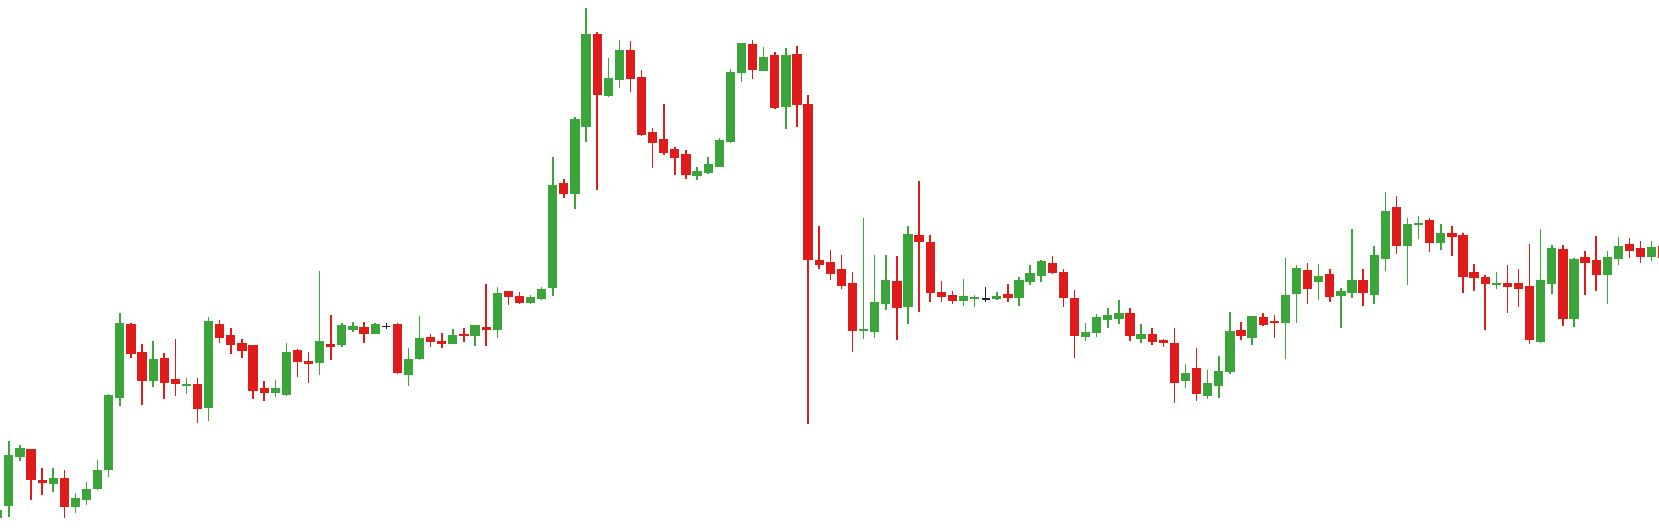sell: (659, 30, 782, 159), (1345, 189, 1404, 278)
